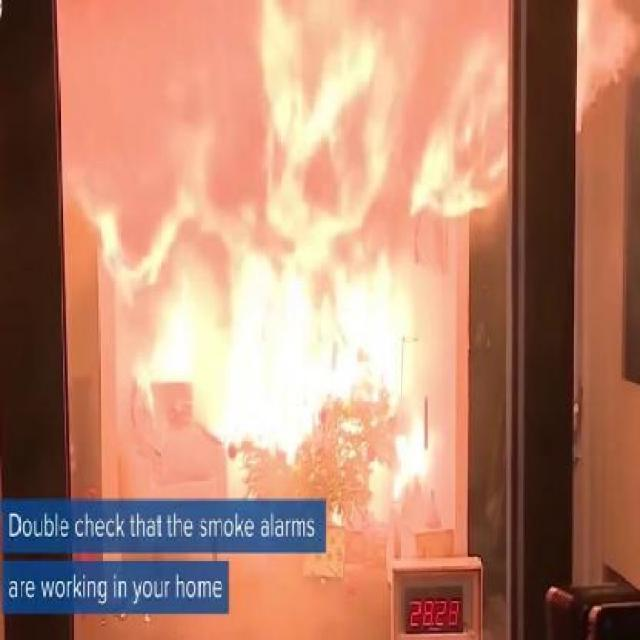fire: (220, 223, 420, 432)
